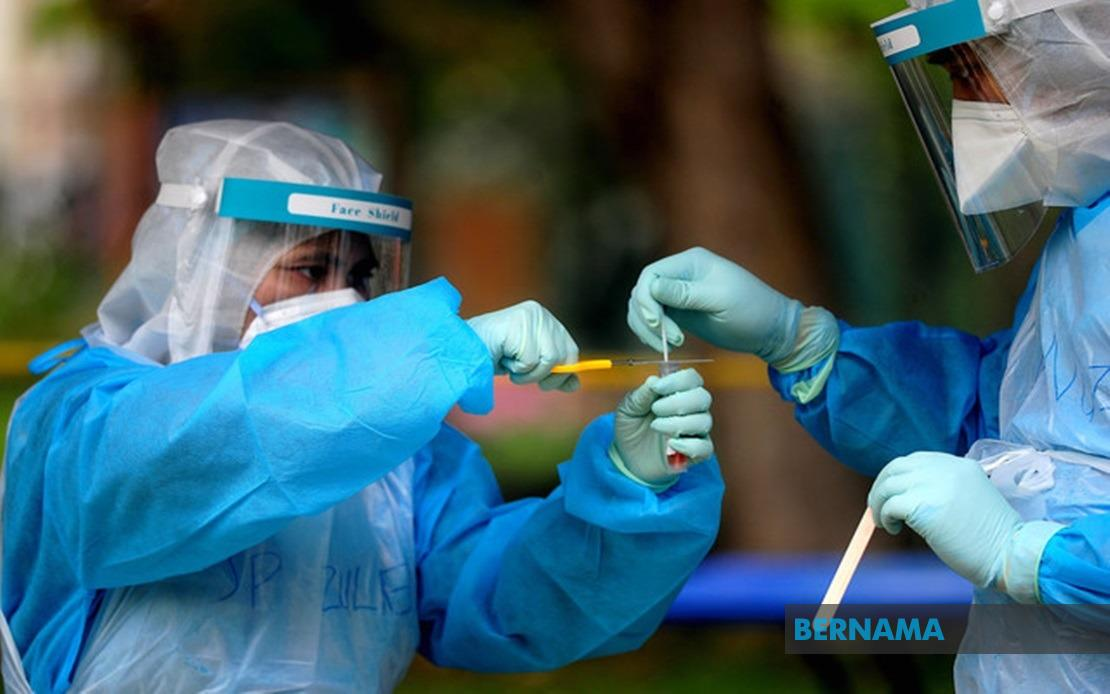Coverall: (17, 328, 495, 694)
Gloves: (855, 451, 1055, 602), (619, 241, 810, 363), (605, 369, 731, 513), (437, 292, 583, 398)
with_mask: (935, 56, 1094, 216)
